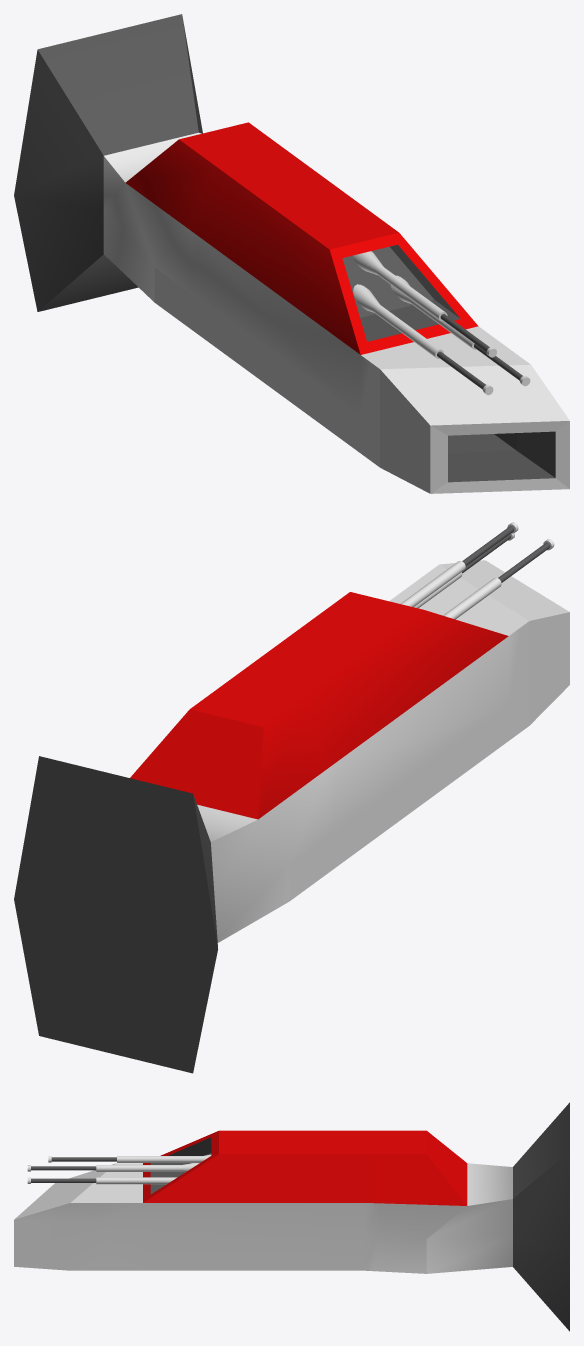
File: RIGHT_ROCKET.fbx
3 renders of one model, top to bottom at view 1: azimuth 30°, elevation 25°; view 2: azimuth 150°, elevation 25°; view 3: azimuth 270°, elevation 25°, orthographic. The views are drawn at different scales.
Visible parts, largest first — view 1: polySurface30; view 2: polySurface30; view 3: polySurface30.
Boxes of the visible parts, x1=… form: polySurface30: x1=14, y1=14, x2=569, y2=493; polySurface30: x1=14, y1=522, x2=569, y2=1073; polySurface30: x1=14, y1=1102, x2=569, y2=1331.
Bounding box in the file's own units: 212 × 278 × 774.
